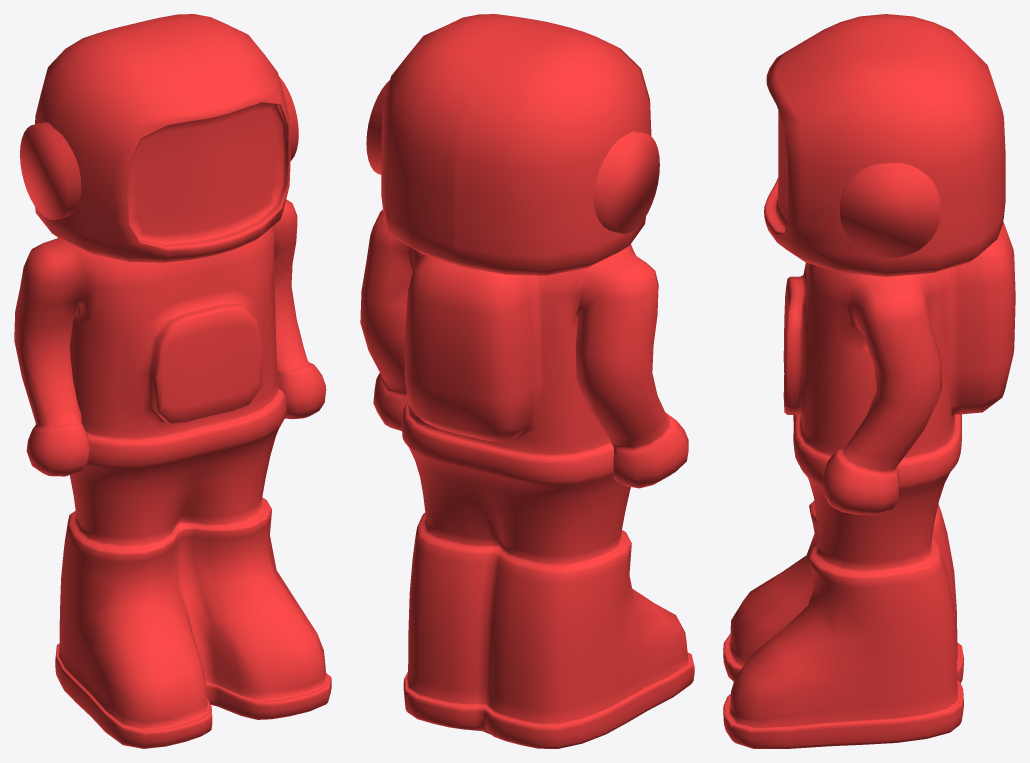
3 renders of one model, left to right at view 1: azimuth 30°, elevation 25°; view 2: azimuth 150°, elevation 25°; view 3: azimuth 270°, elevation 25°, orthographic. The views are drawn at different scales.
Visible parts, largest first — view 1: Spaceman_v2; view 2: Spaceman_v2; view 3: Spaceman_v2.
Part boxes in pixels (x1,y1,x2,y2): Spaceman_v2: [14, 14, 331, 748]; Spaceman_v2: [360, 14, 694, 748]; Spaceman_v2: [723, 14, 1015, 748].
Size of the model in its own units: 2.31 by 4.85 by 1.95.
